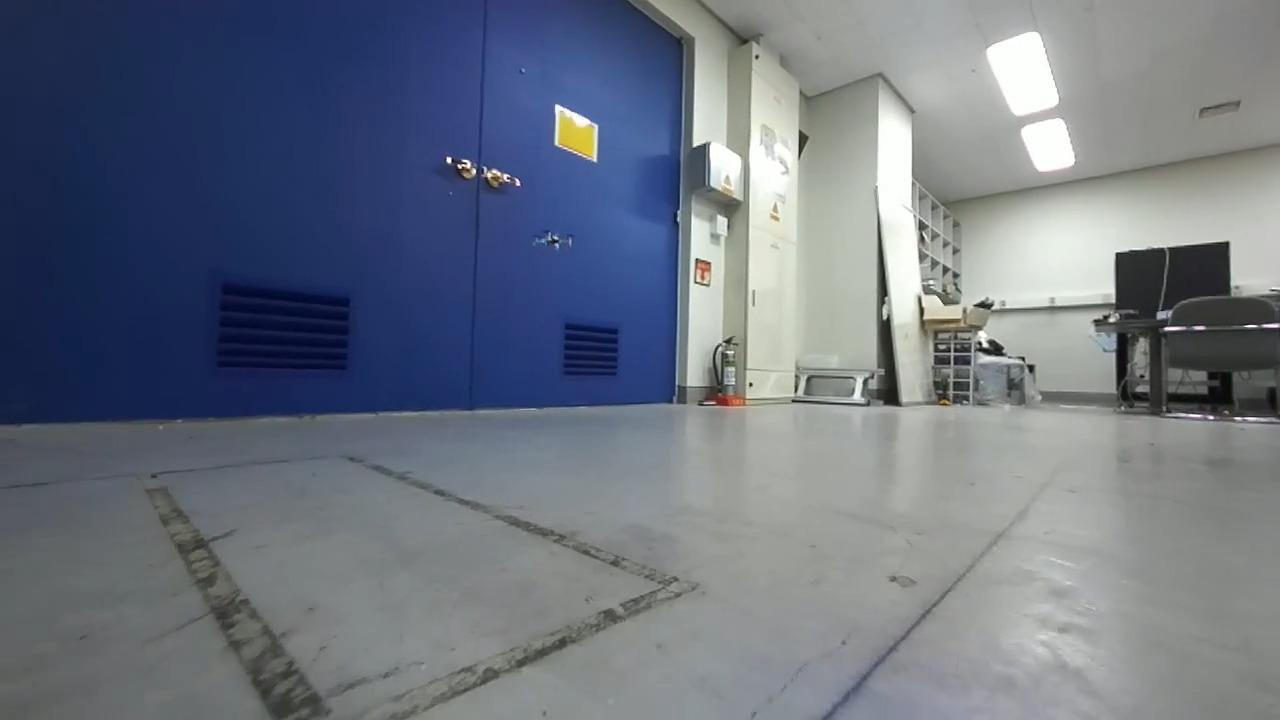crazyflie: (526, 225, 578, 253)
